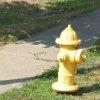a fire hydrant: (54, 24, 88, 91)
